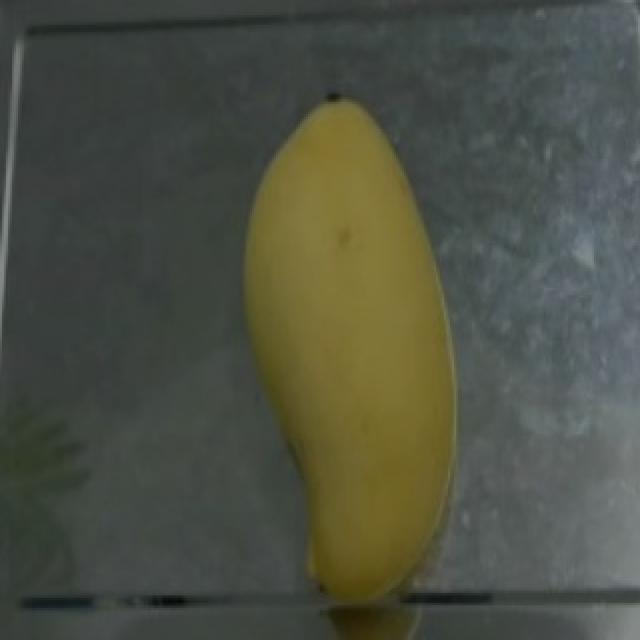fruit: (224, 82, 466, 446)
